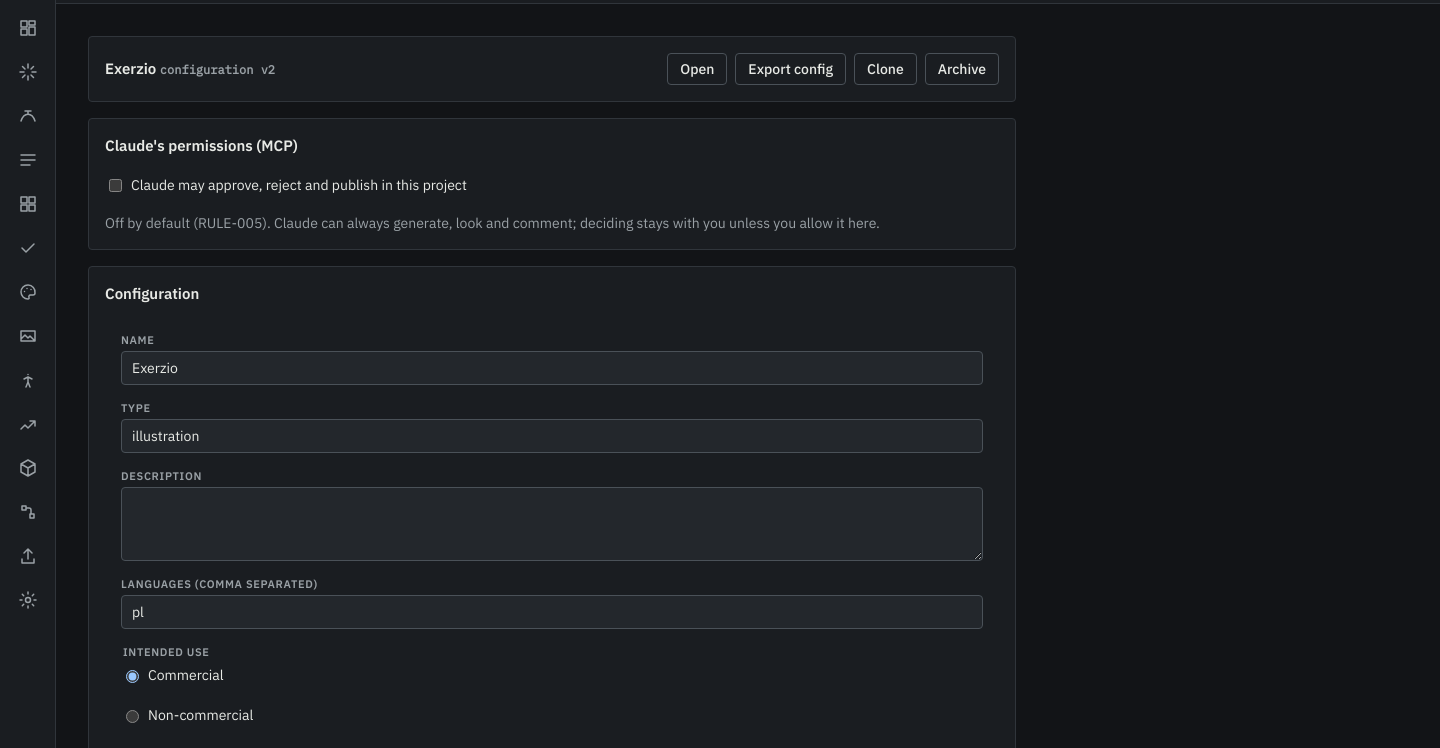
Test: Project settings (FR-002, FR-007, RULE-005) › lets the user allow Claude to decide and compares configuration versions
Click the checkbox labelled "Claude may approve, reject and publish in this project": x=116, y=185 [109,178,122,192]
(page scrolled)
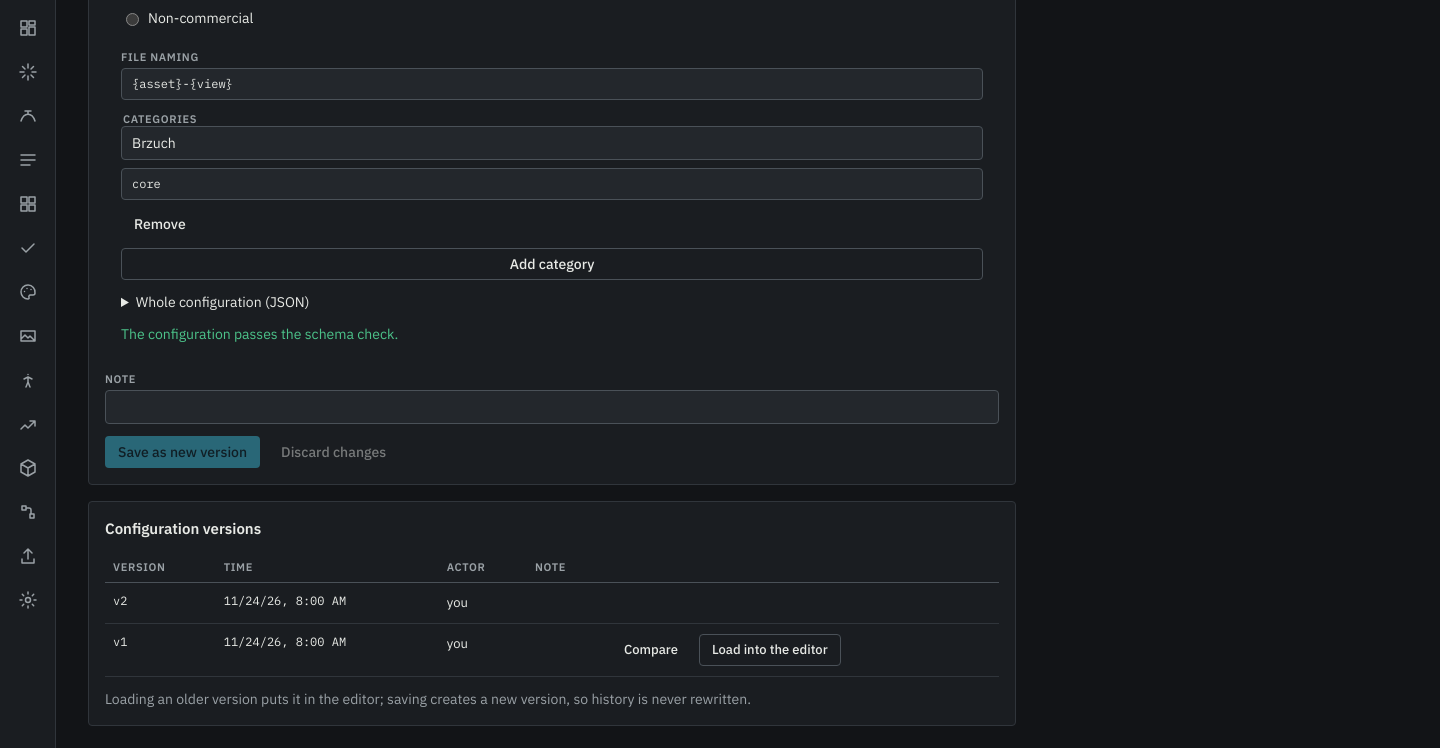
Click the button "Compare": x=651, y=650 [611,634,691,666]
(page scrolled)
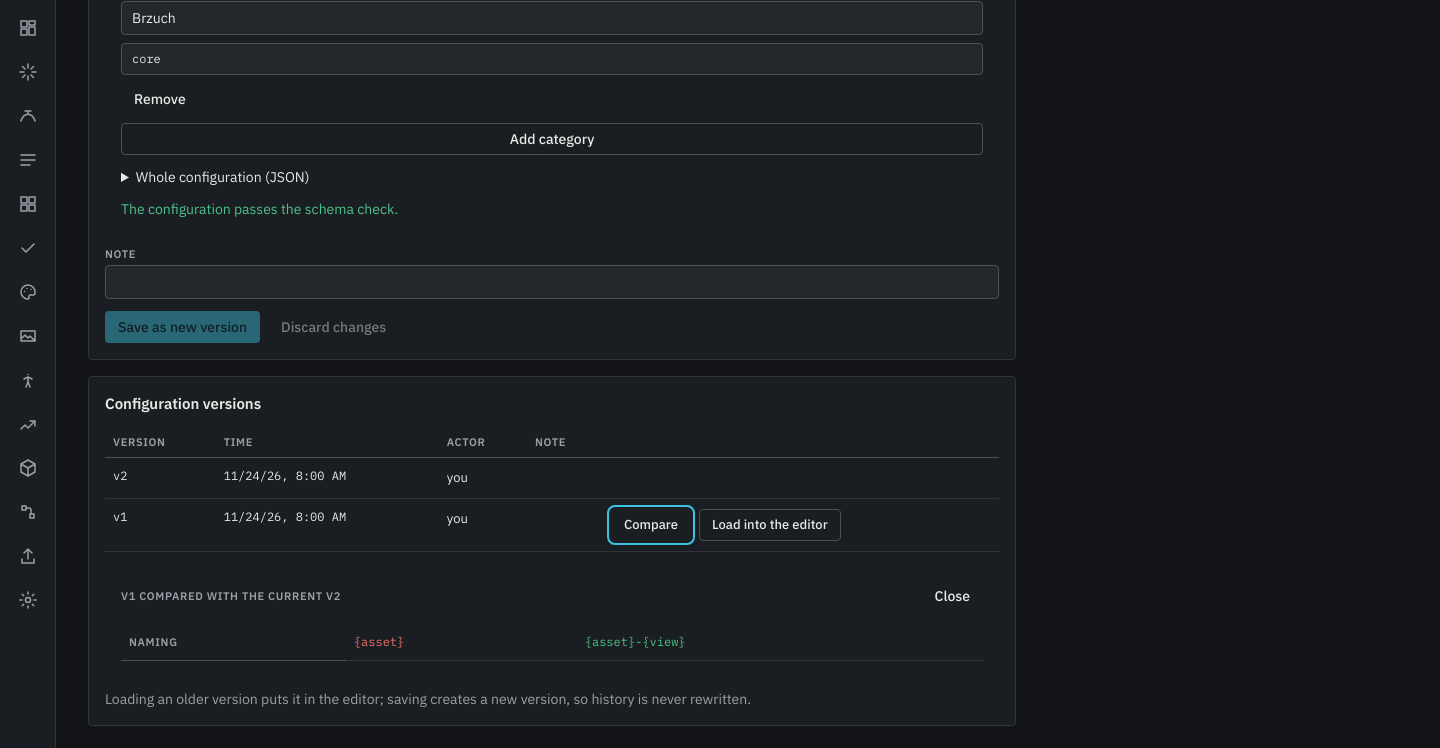
Check: the heading "v1 compared with the current v2" is shown, box [121,589,341,603]
Check: the column heading "naming" is shown, box [121,624,346,660]
